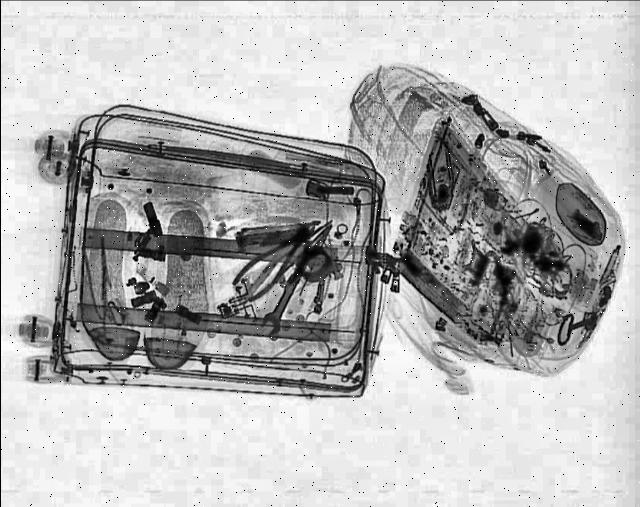Pliers: (222, 214, 330, 305)
Wrench: (255, 236, 327, 336)
